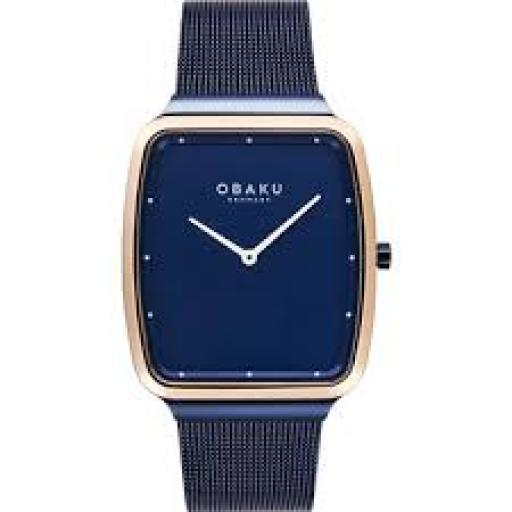KolSaati: (100, 2, 396, 512)
